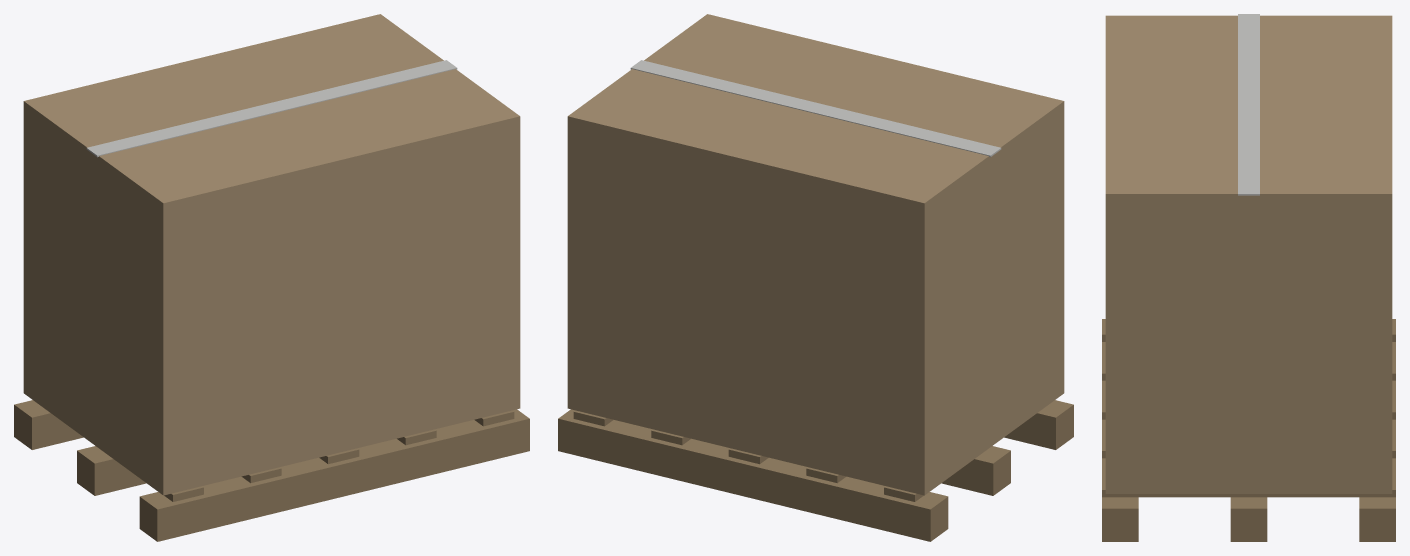
Rendered from hangar_palette_cartons.glb.
The picture shows the model from 3 angles, left to right: view 1: azimuth 30°, elevation 25°; view 2: azimuth 150°, elevation 25°; view 3: azimuth 270°, elevation 25°; orthographic projection. The views are drawn at different scales.
Visible parts, largest first — view 1: hangar_palette_cartons; view 2: hangar_palette_cartons; view 3: hangar_palette_cartons.
Boxes of the visible parts, bbox=[...] form: hangar_palette_cartons: bbox=[14, 14, 529, 541]; hangar_palette_cartons: bbox=[558, 14, 1073, 541]; hangar_palette_cartons: bbox=[1102, 14, 1395, 541].
Size of the model in its own units: 1.2 by 1.04 by 0.8.
